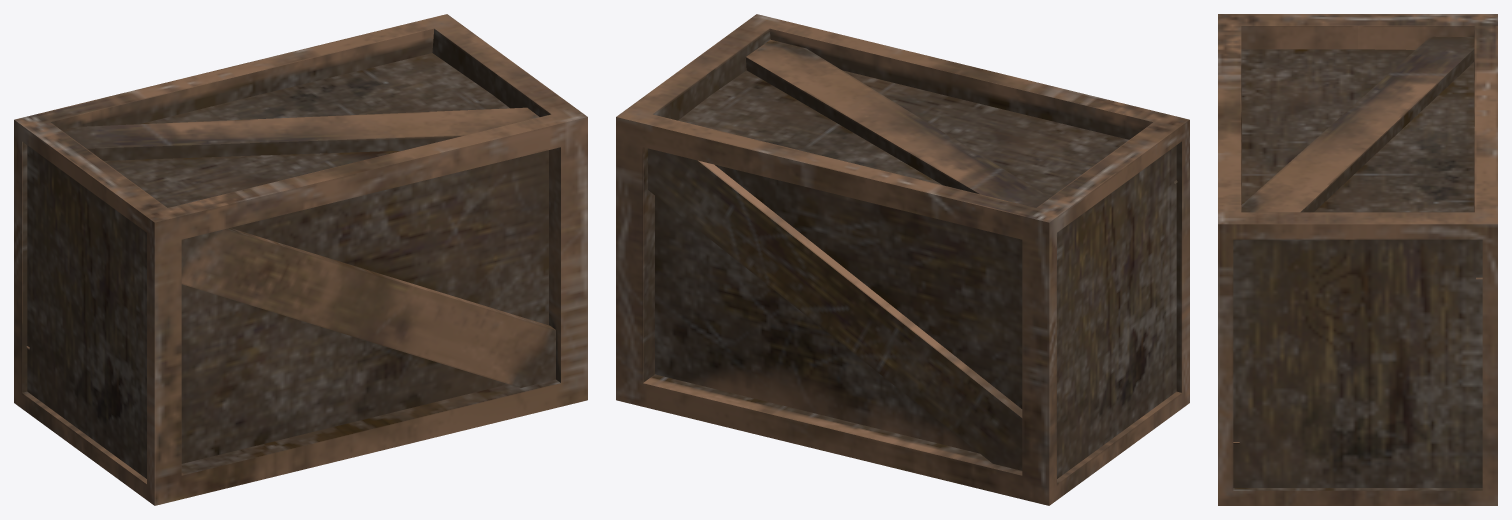
Rendered from SM_Crate_A.glb.
3 views of the same model, side by side, from view 1: azimuth 30°, elevation 25°; view 2: azimuth 150°, elevation 25°; view 3: azimuth 270°, elevation 25° (orthographic).
Visible parts, largest first — view 1: SM_Crate_A; view 2: SM_Crate_A; view 3: SM_Crate_A.
Boxes of the visible parts, x1,y1,x2,y2 form: SM_Crate_A: (14,14,587,505); SM_Crate_A: (616,14,1189,505); SM_Crate_A: (1218,14,1497,505).
Size of the model in its own units: 0.8 by 0.5 by 0.45.
1 material, 1 textured.
